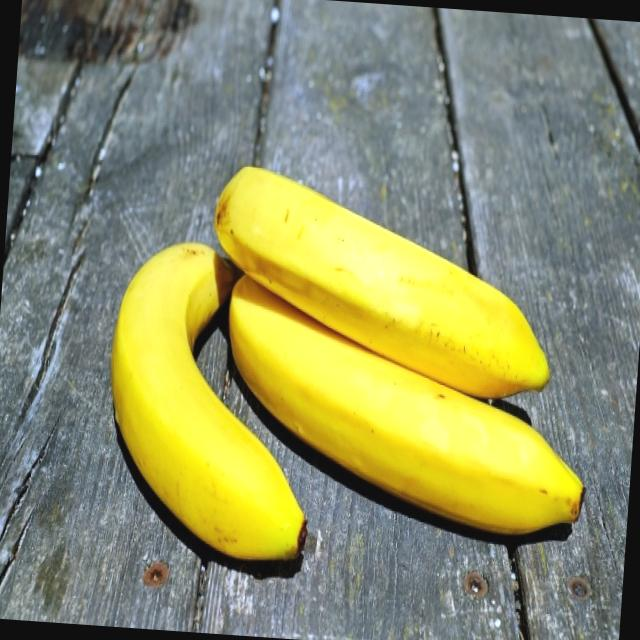banana: (204, 271, 596, 582), (180, 154, 570, 407), (82, 223, 330, 592)
